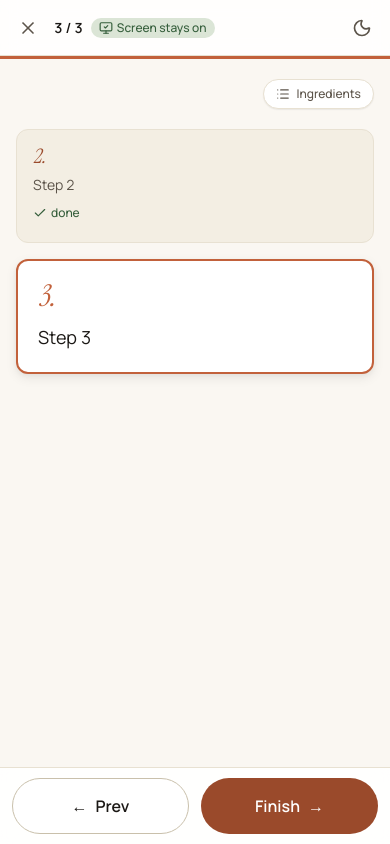
it: shows the screen-on pill only while the wake lock is held, and releases it on completion
What coordinates should you click on to do the following:
click the button "Finish →"
I would click on:
 (290, 806)
Its box is [201,778,378,834].
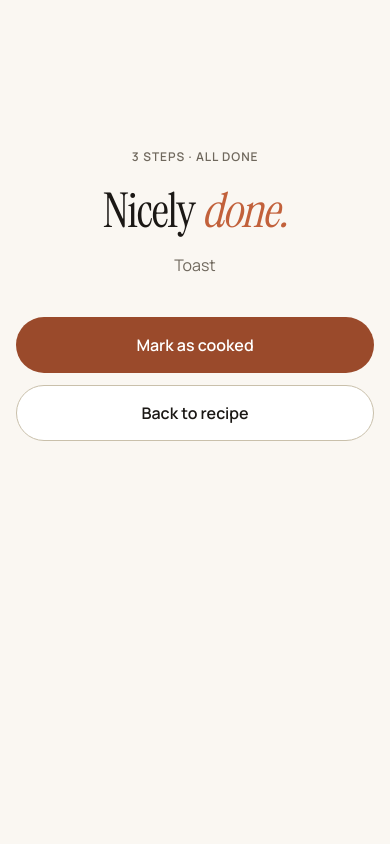
Now the button "Mark as cooked" is shown, box [16,317,374,373]
Now the text "Screen stays on" is gone
